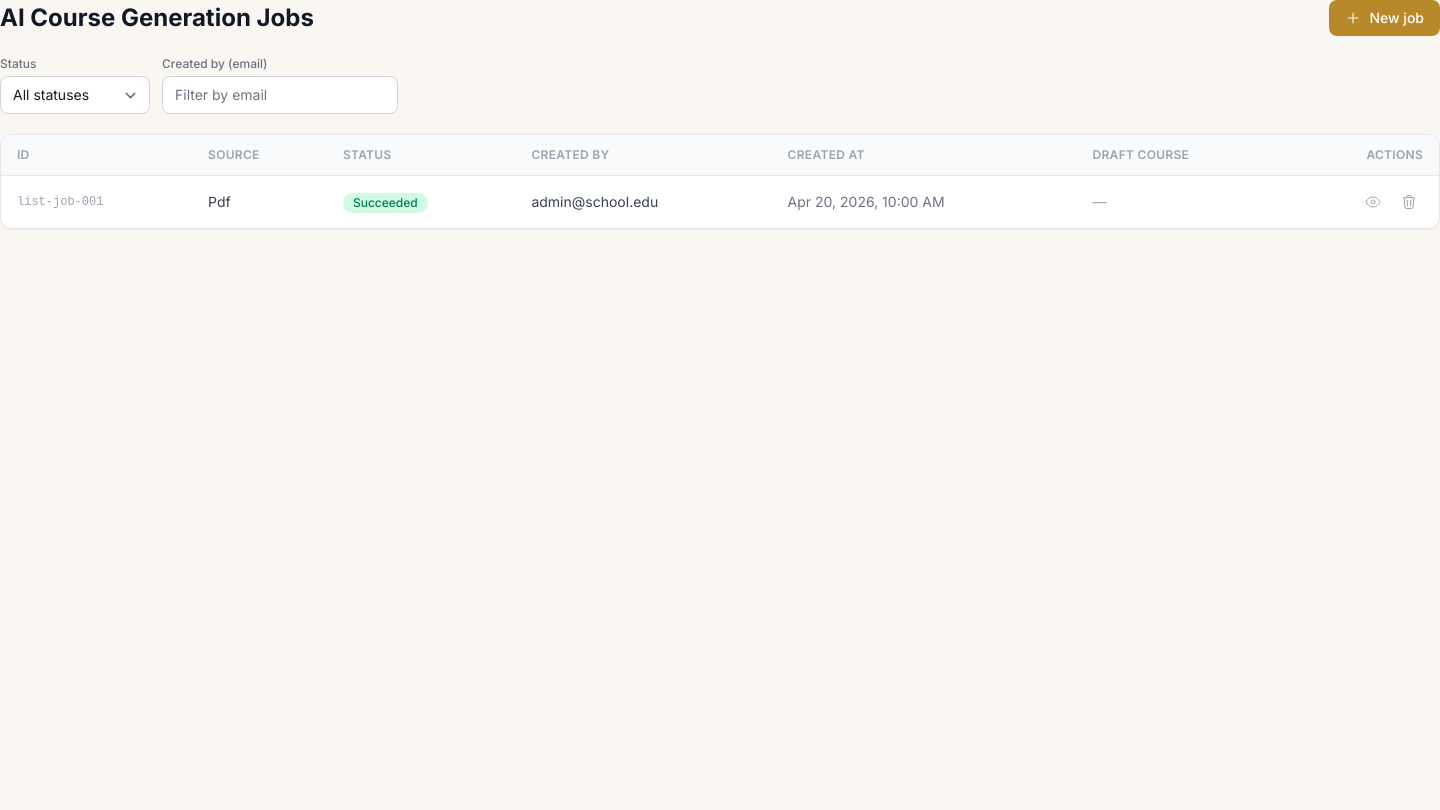
Test: AIGeneratorJobsList — delete confirmation › shows delete confirmation modal when delete icon is clicked
Click the button with test id "delete-btn-list-job-001": point(1409, 202) x1=1395 y1=188 x2=1423 y2=216
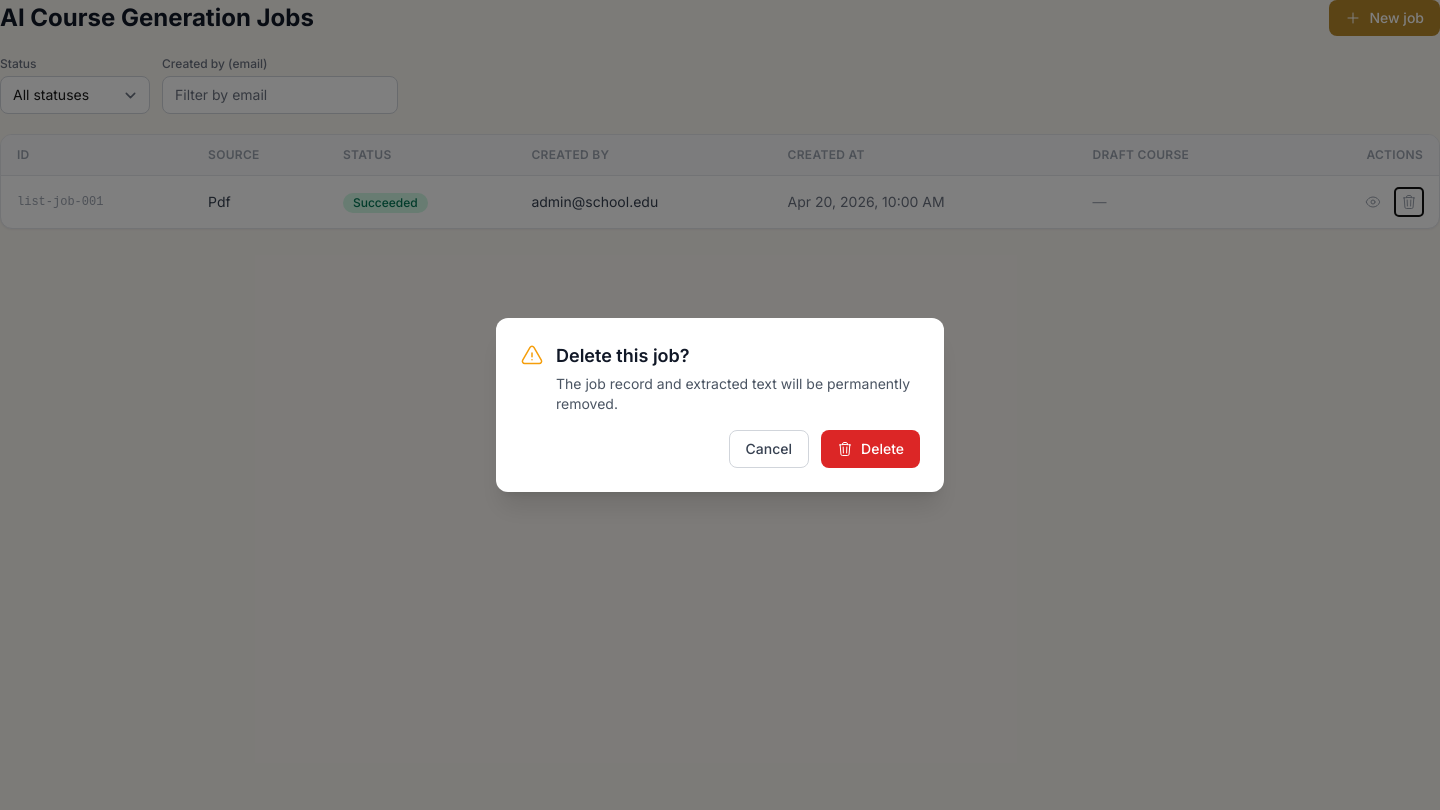
Check: the dialog with test id "delete-modal" is shown
